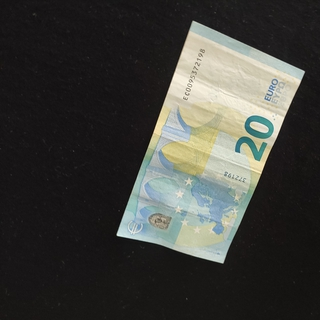20EUROBack: (115, 19, 305, 264)
